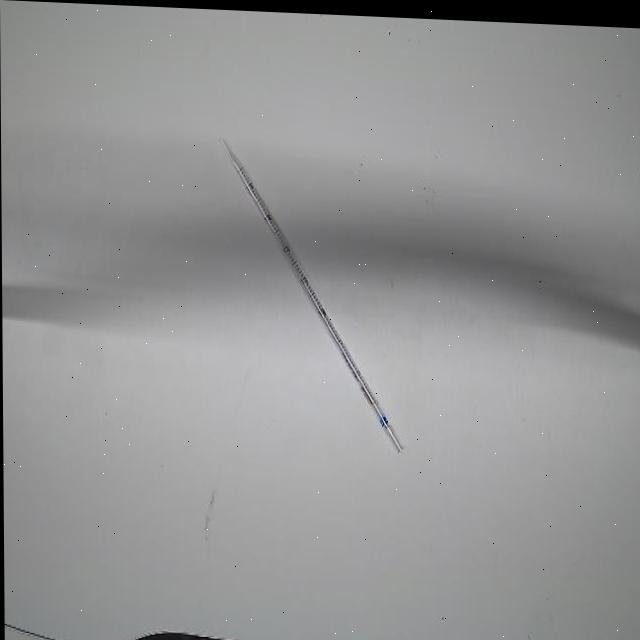Serelogical Pipet 5 mL: (216, 126, 406, 455)
